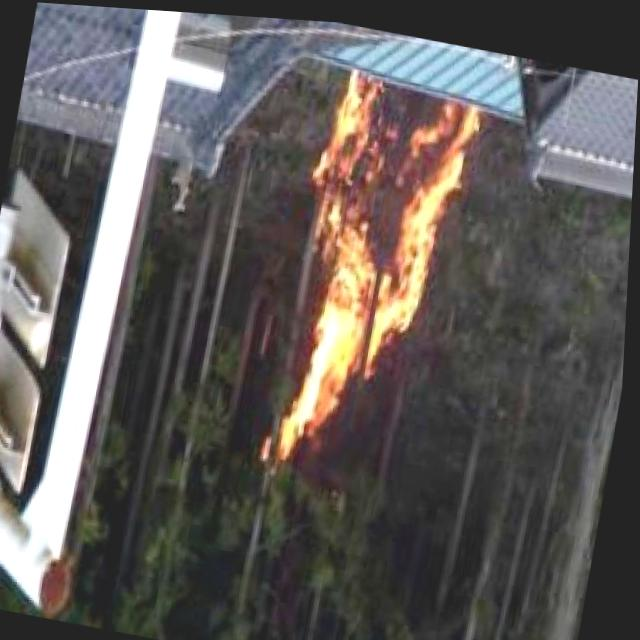helmet: (263, 60, 480, 486)
